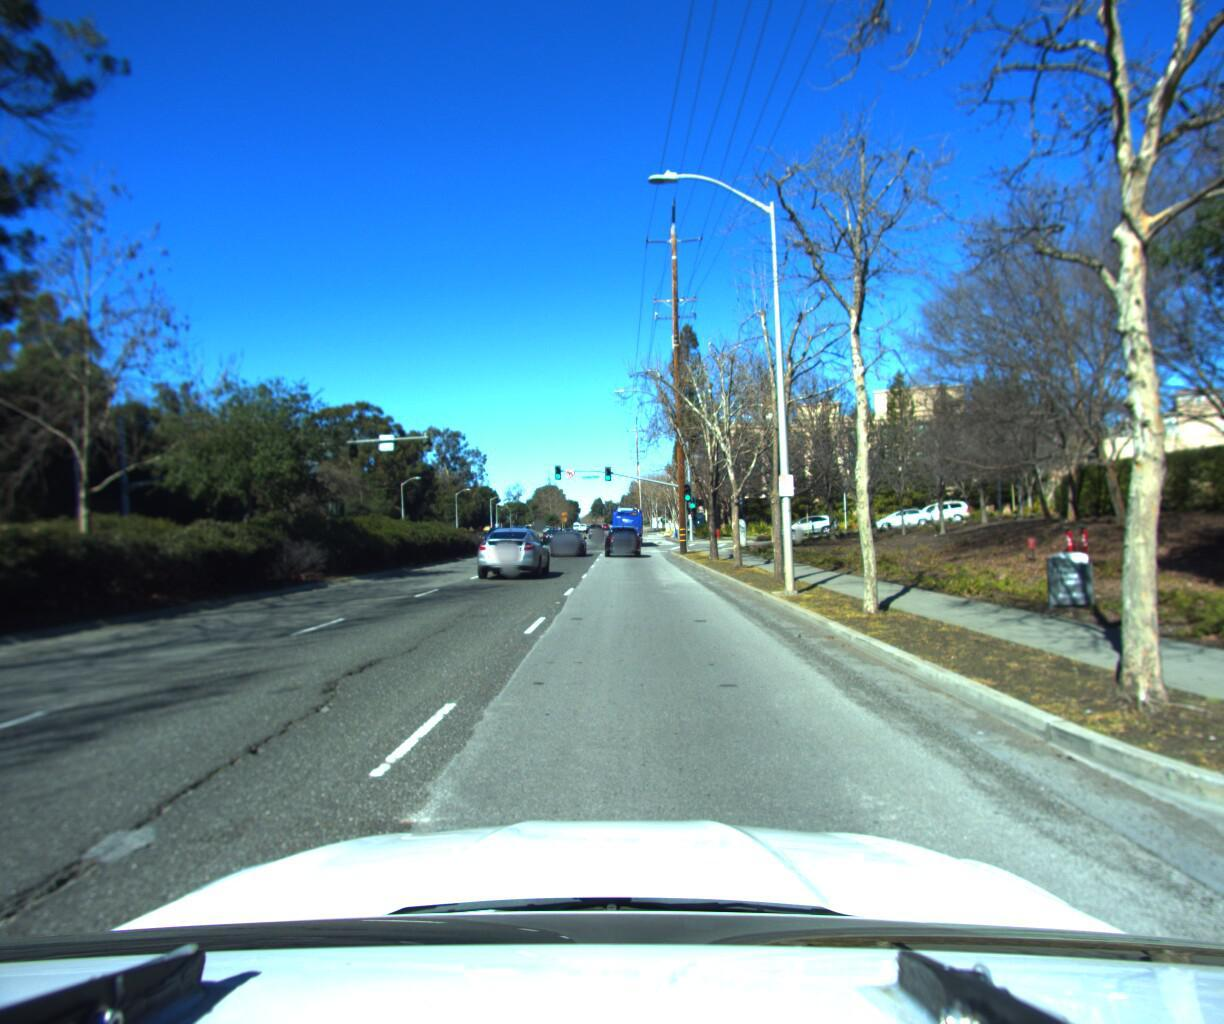bus: (608, 500, 646, 542)
car: (469, 524, 552, 580), (905, 490, 975, 520), (777, 508, 839, 536), (869, 502, 935, 526), (604, 522, 644, 556), (548, 527, 587, 554)
